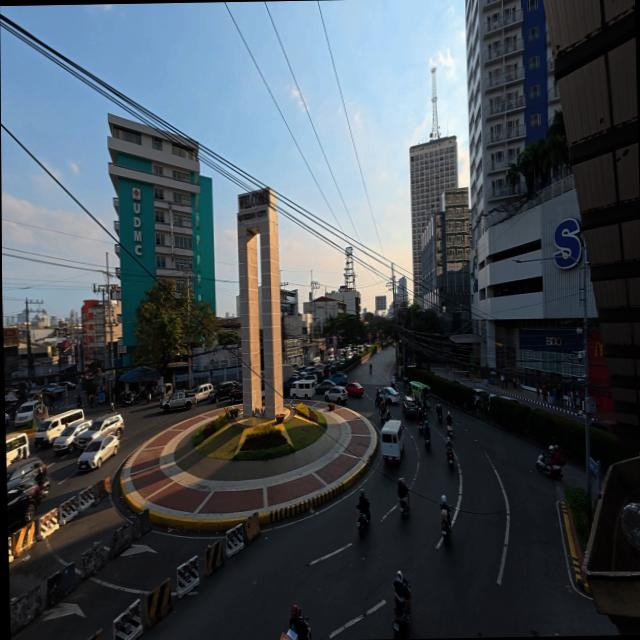car: (75, 426, 123, 471), (210, 382, 242, 404), (325, 382, 350, 402), (377, 385, 401, 405), (347, 382, 364, 398)
trucks: (160, 389, 194, 411)
vans: (12, 403, 40, 428)
